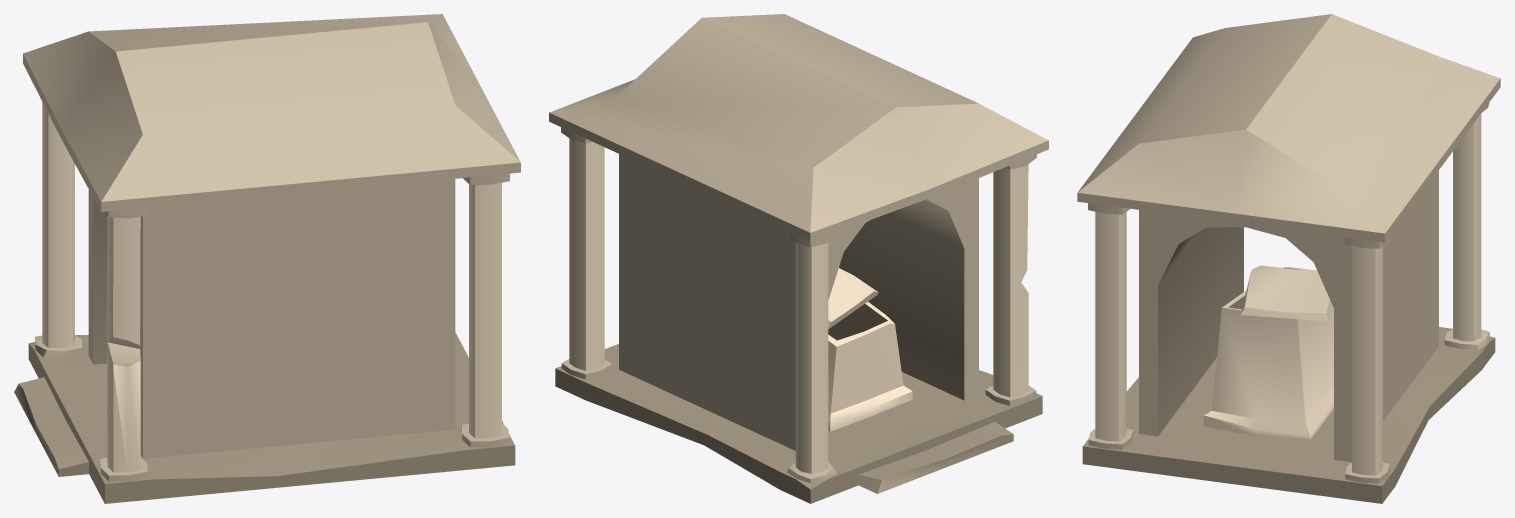
Rendered from sf_dr_shrine.glb.
3 renders of one model, left to right at view 1: azimuth 30°, elevation 25°; view 2: azimuth 150°, elevation 25°; view 3: azimuth 270°, elevation 25°, orthographic. The views are drawn at different scales.
Visible parts, largest first — view 1: sf_dr_shrine; view 2: sf_dr_shrine; view 3: sf_dr_shrine.
Boxes of the visible parts, x1=… form: sf_dr_shrine: x1=14, y1=14, x2=520, y2=503; sf_dr_shrine: x1=549, y1=14, x2=1048, y2=503; sf_dr_shrine: x1=1077, y1=14, x2=1500, y2=503.
Bounding box in the file's own units: 5.61 × 4.47 × 5.09.
